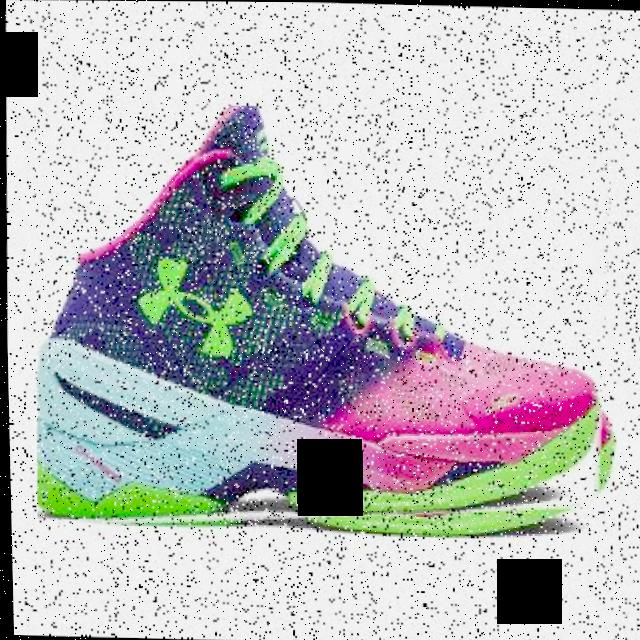shoe: (27, 100, 622, 542)
